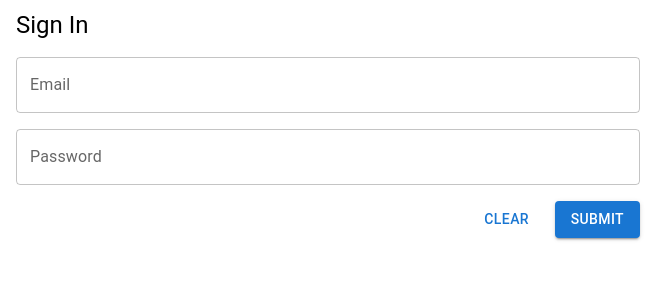
Scenario: Login Page › Shows form validation error for missing required fields
Click the button "submit".
click(597, 219)  # box 555,201 -> 640,238
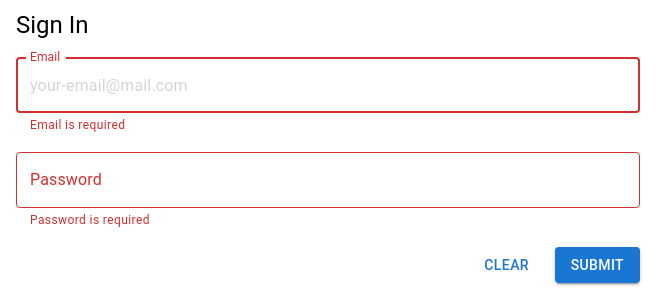
Now the text "Email is required" is shown, box 30,118 -> 125,132
Now the text "Password is required" is shown, box 30,213 -> 150,227
